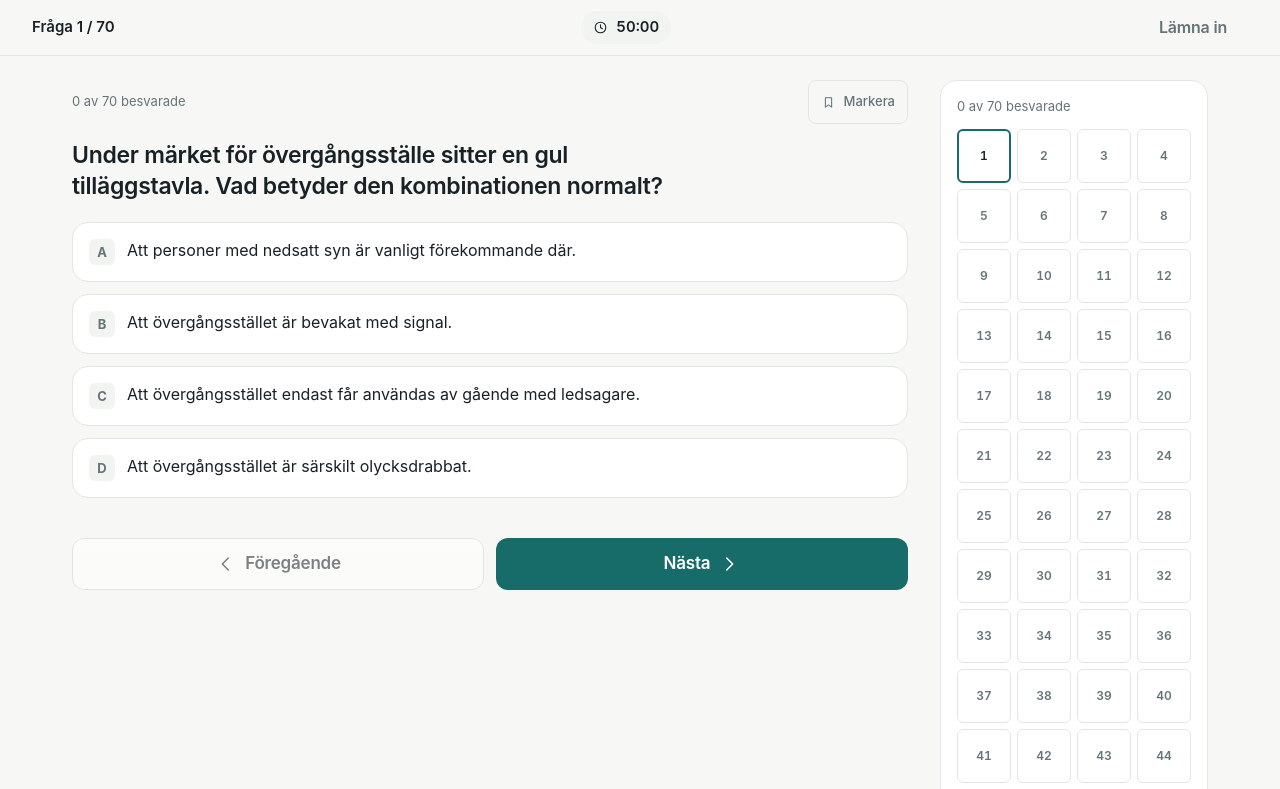
Test: ExamRunnerPage › warns about unanswered questions before submitting
Click the button "Lämna in" at (1193, 28), box [1138, 6, 1248, 50]
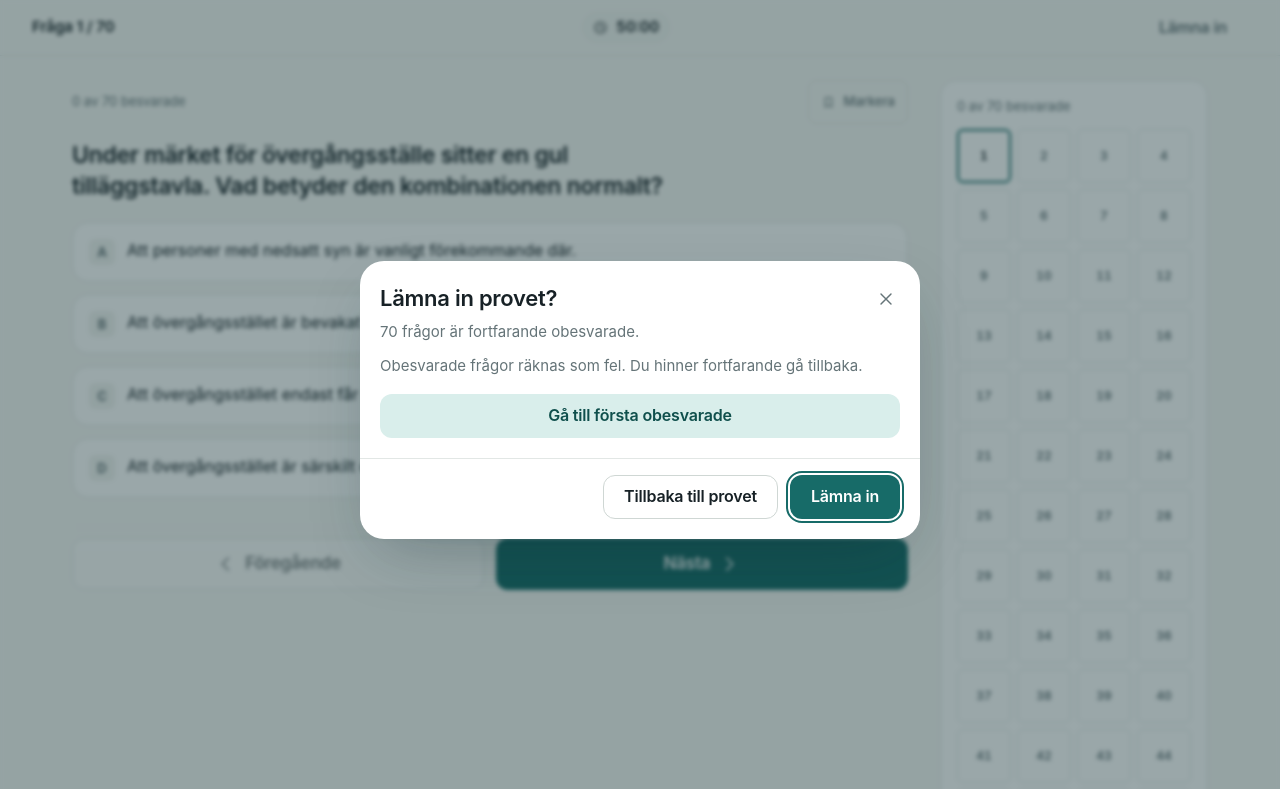
Check: the text "70 frågor är fortfarande obesvarade." is shown, box [380, 321, 639, 343]
Check: the button "Gå till första obesvarade" is shown, box [380, 394, 900, 438]
